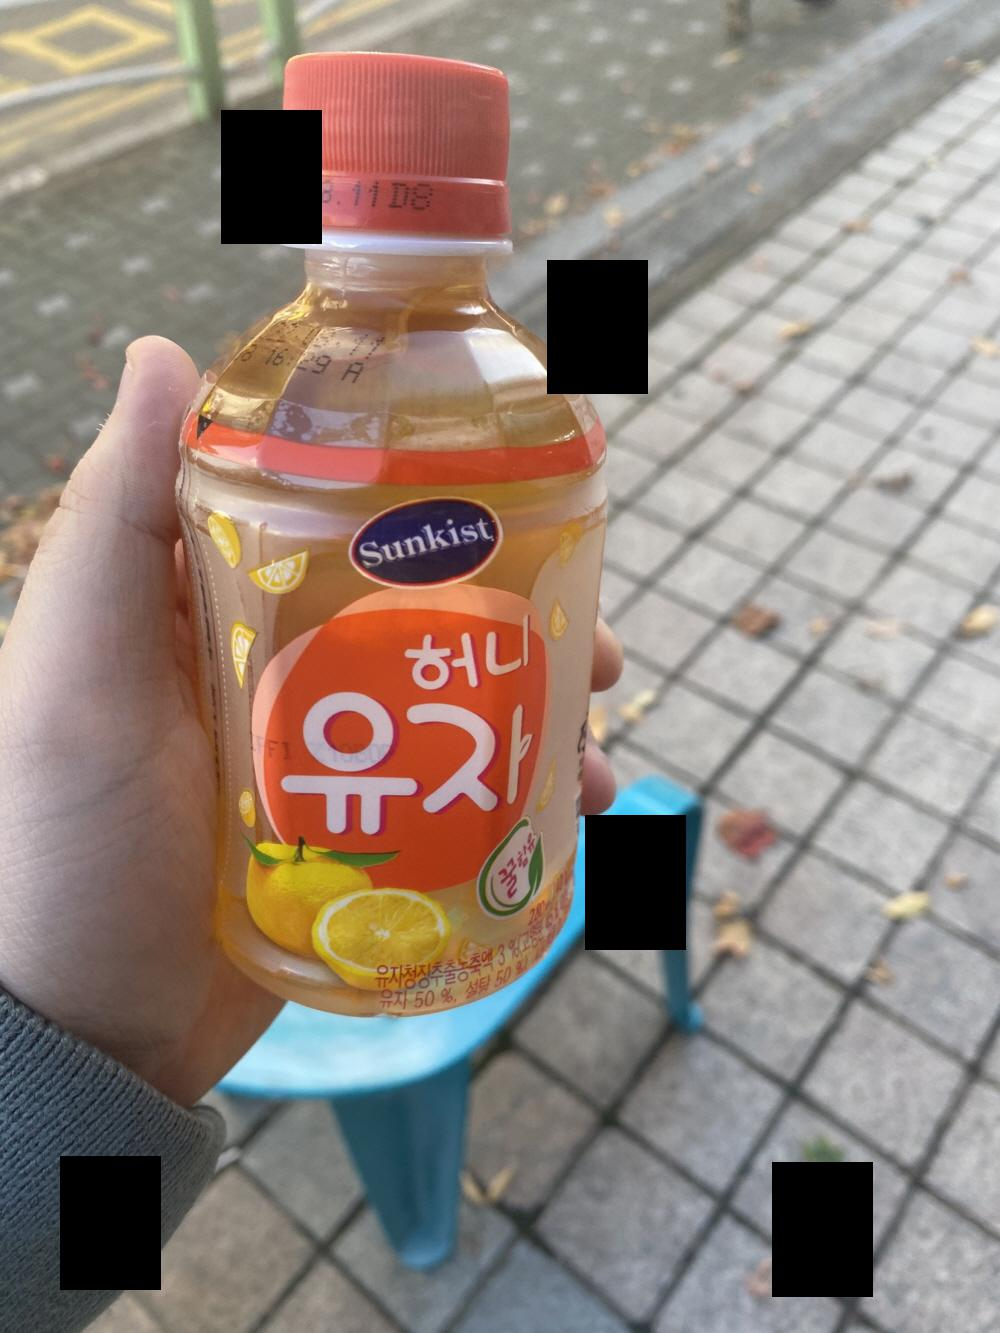honeyyuja: (161, 53, 605, 1017)
